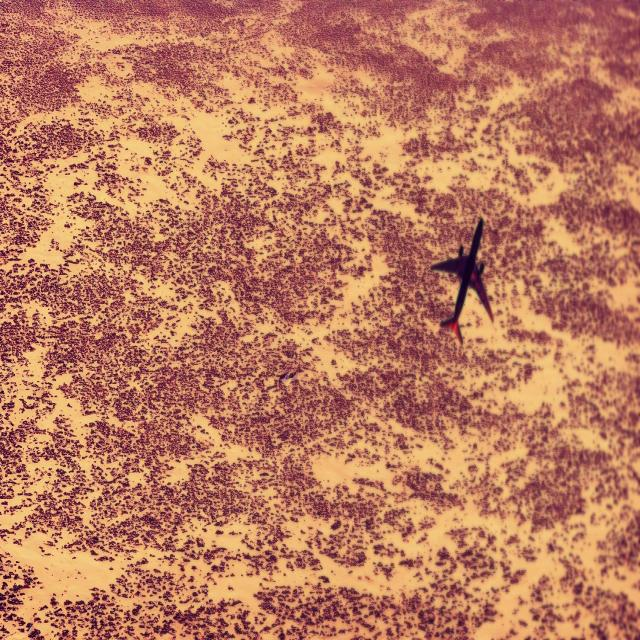airplane: (430, 217, 494, 346)
